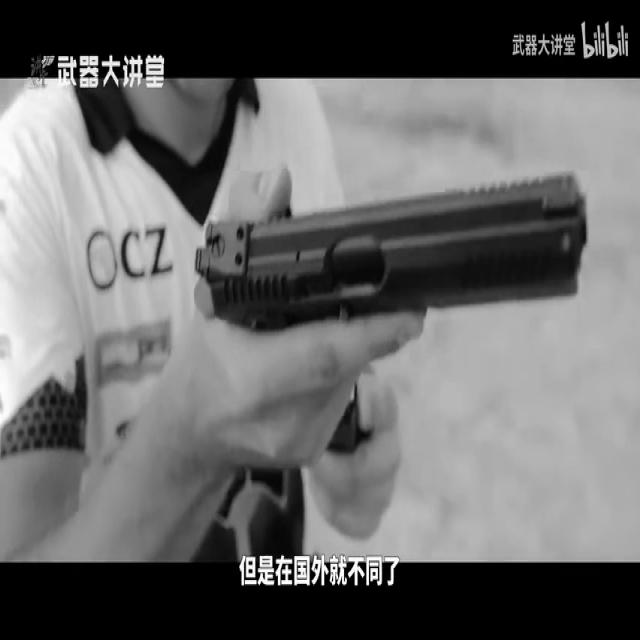Hand-Gun: (189, 175, 589, 334)
